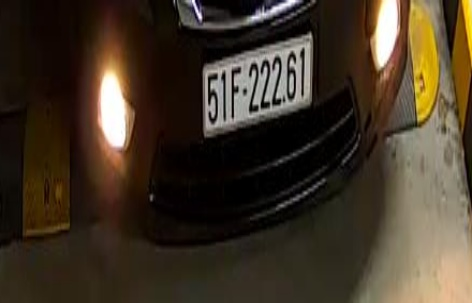plate: (196, 36, 315, 137)
